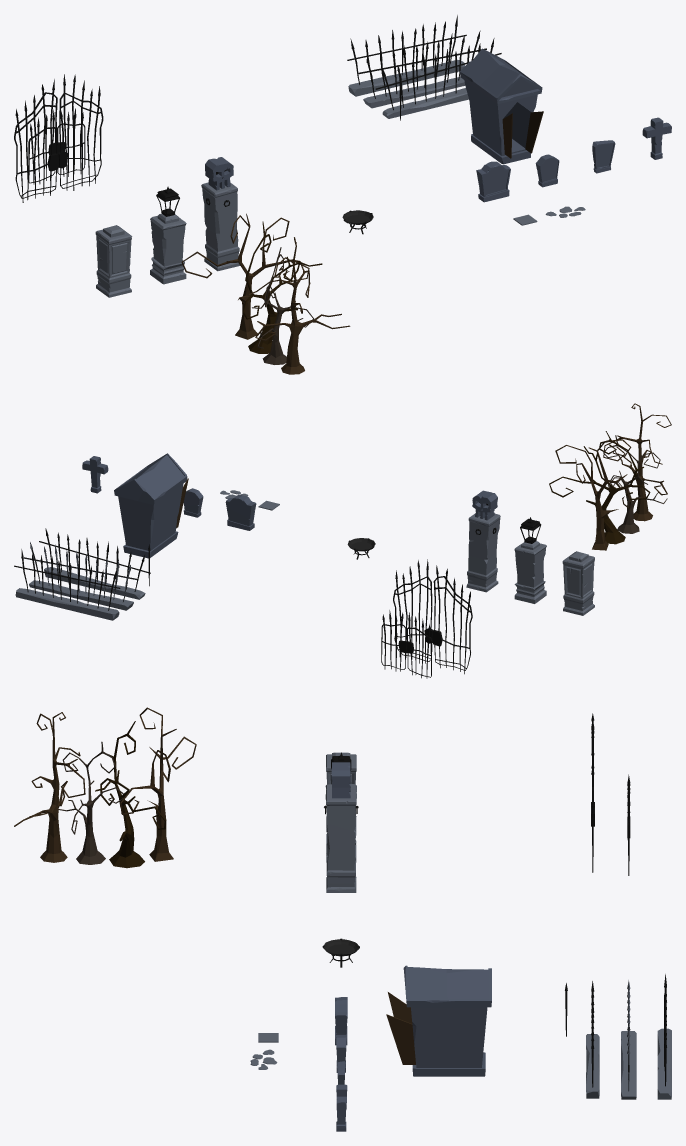
File: jakelundberg-dev-assets.glb
3 renders of one model, top to bottom at view 1: azimuth 30°, elevation 25°; view 2: azimuth 150°, elevation 25°; view 3: azimuth 270°, elevation 25°, orthographic. The views are drawn at different scales.
Visible parts, largest first — view 1: mausoleum-1, pillar-skull, pillar-lantern, pillar-1, fence-3, fence-1, fence-2, gate-large-1-1, gate-large-1-2, tree-4, tree-1, tree-2 (+7 smaller); view 2: mausoleum-1, pillar-skull, fence-3, pillar-lantern, fence-1, pillar-1, fence-2, gate-large-1-1, tree-1, tree-2, tree-4, gate-large-1-2 (+6 smaller); view 3: mausoleum-1, pillar-skull, tree-4, tree-1, tree-2, tree-3, fence-1, fence-3, fence-2.
Boxes of the visible parts, left/top/right/bottom form: mausoleum-1: left=459, top=48, right=543, bottom=164; pillar-skull: left=201, top=157, right=240, bottom=271; pillar-lantern: left=150, top=186, right=186, bottom=284; pillar-1: left=95, top=225, right=132, bottom=297; fence-3: left=347, top=15, right=466, bottom=96; fence-1: left=358, top=30, right=486, bottom=108; fence-2: left=375, top=38, right=501, bottom=118; gate-large-1-1: left=14, top=79, right=59, bottom=202; gate-large-1-2: left=57, top=74, right=103, bottom=190; tree-4: left=248, top=237, right=350, bottom=374; tree-1: left=181, top=213, right=309, bottom=339; tree-2: left=243, top=221, right=322, bottom=353; mausoleum-1: left=114, top=453, right=188, bottom=558; pillar-skull: left=466, top=490, right=500, bottom=592; fence-3: left=14, top=549, right=120, bottom=620; pillar-lantern: left=514, top=517, right=546, bottom=603; fence-1: left=24, top=542, right=138, bottom=610; pillar-1: left=562, top=551, right=594, bottom=615; fence-2: left=39, top=528, right=150, bottom=599; gate-large-1-1: left=432, top=565, right=472, bottom=674; tree-1: left=555, top=439, right=631, bottom=550; tree-2: left=549, top=431, right=650, bottom=544; tree-4: left=603, top=403, right=671, bottom=521; gate-large-1-2: left=393, top=559, right=433, bottom=663; mausoleum-1: left=386, top=965, right=491, bottom=1076; pillar-skull: left=324, top=762, right=358, bottom=892; tree-4: left=14, top=712, right=85, bottom=862; tree-1: left=120, top=707, right=196, bottom=861; tree-2: left=95, top=721, right=166, bottom=868; tree-3: left=58, top=741, right=123, bottom=864; fence-1: left=621, top=980, right=636, bottom=1099; fence-3: left=657, top=974, right=671, bottom=1099; fence-2: left=586, top=981, right=599, bottom=1098.
Bounding box in the file's own units: 20.92 × 4.63 × 18.31.
